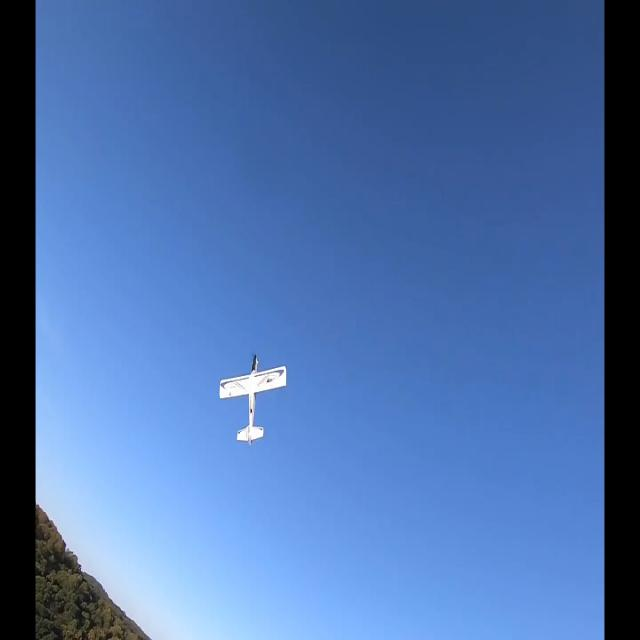iha: (252, 386, 255, 415)
